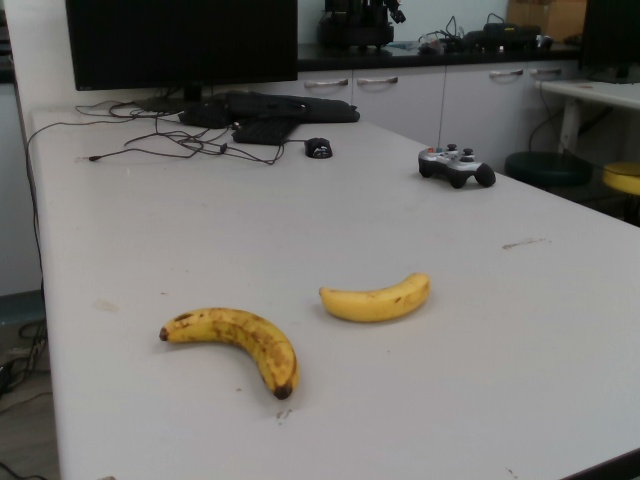banana: (158, 304, 299, 403), (319, 270, 428, 325)
